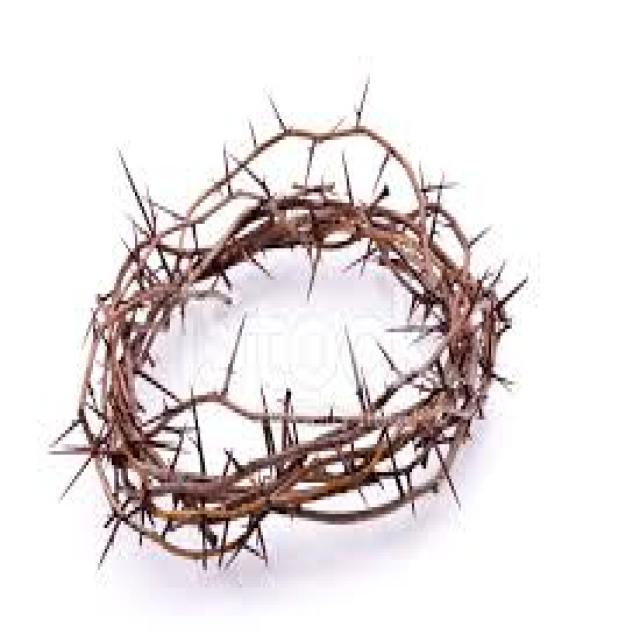crown: (62, 83, 522, 602)
